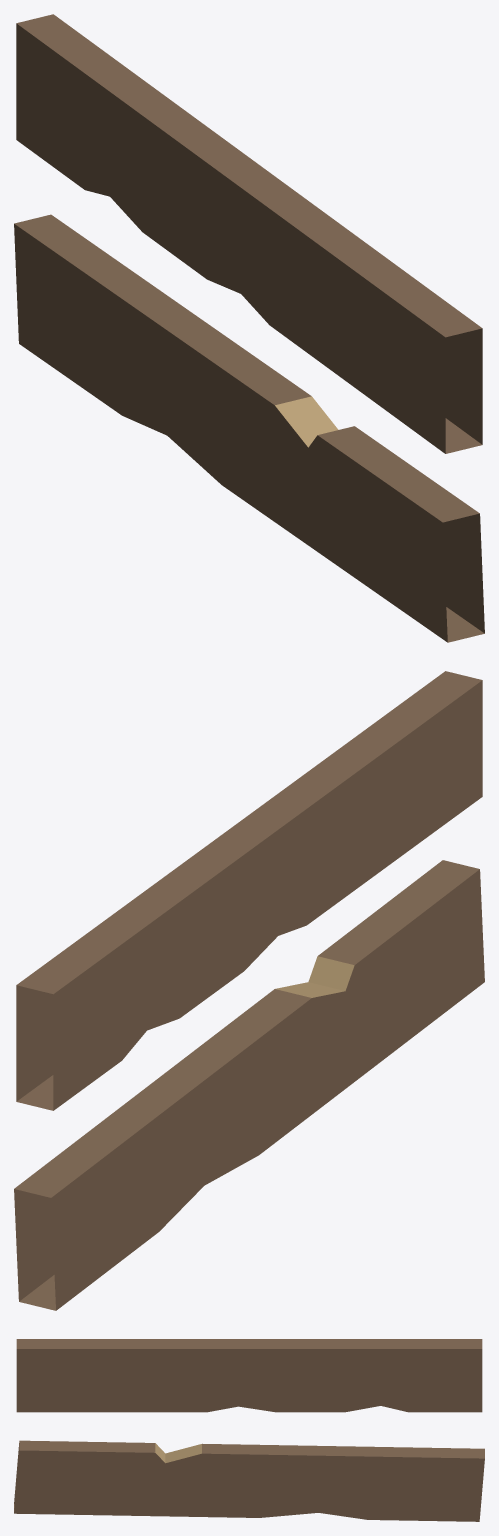
File: Cave_Prop_Support_Wall_Boards_4.obj
3 views of the same model, one above another, from view 1: azimuth 30°, elevation 25°; view 2: azimuth 150°, elevation 25°; view 3: azimuth 270°, elevation 25° (orthographic). The views are drawn at different scales.
Parts seen in each view (by area): view 1: object1, object2; view 2: object2, object1; view 3: object1, object2.
Part boxes in pixels (x1,y1,x2,y2): object1: (16, 14, 482, 453); object2: (14, 214, 484, 642); object2: (14, 860, 484, 1310); object1: (16, 671, 482, 1110); object1: (16, 1339, 482, 1412); object2: (14, 1440, 484, 1521).
Size of the model in its own units: 0.1 by 0.8191 by 2.02.
